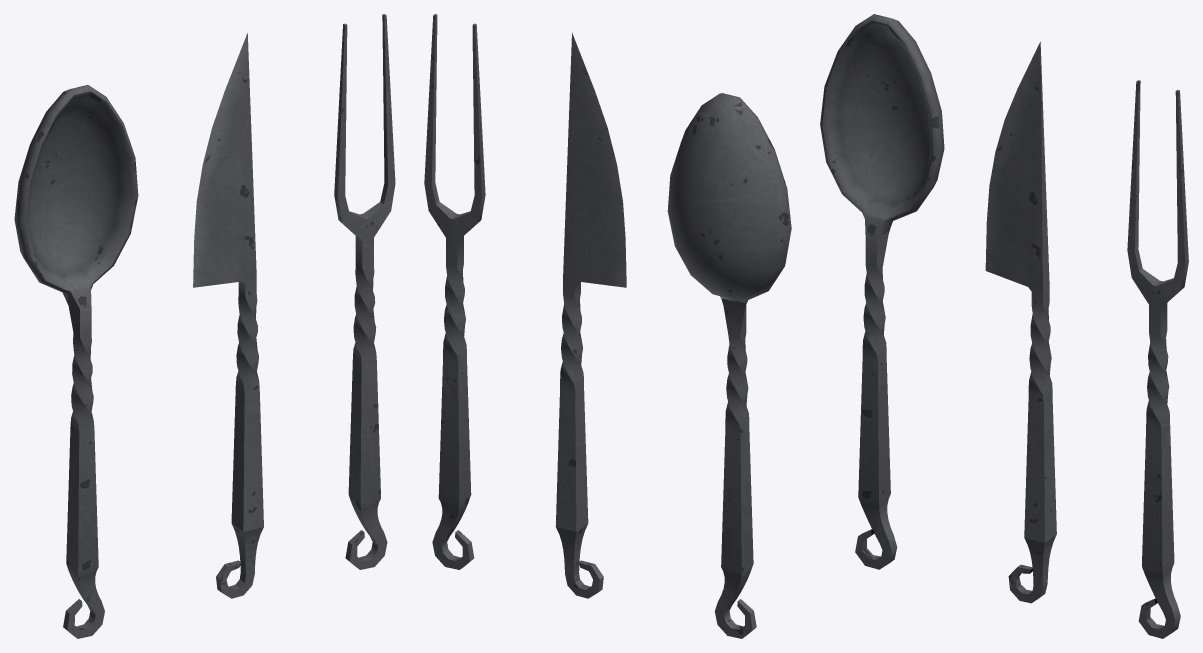
The model's file is eat.glb.
3 views of the same model, side by side, from view 1: azimuth 30°, elevation 25°; view 2: azimuth 150°, elevation 25°; view 3: azimuth 330°, elevation 25° (orthographic).
Visible parts, largest first — view 1: 3_Metal Damacus 1_0, 1_Metal Damacus 1_0, 2_Metal Damacus 1_0; view 2: 3_Metal Damacus 1_0, 1_Metal Damacus 1_0, 2_Metal Damacus 1_0; view 3: 3_Metal Damacus 1_0, 1_Metal Damacus 1_0, 2_Metal Damacus 1_0.
Boxes of the visible parts, x1,y1,x2,y2 form: 3_Metal Damacus 1_0: (14,85,138,638); 1_Metal Damacus 1_0: (193,33,263,598); 2_Metal Damacus 1_0: (334,14,395,569); 3_Metal Damacus 1_0: (667,93,791,638); 1_Metal Damacus 1_0: (555,32,626,598); 2_Metal Damacus 1_0: (424,14,485,569); 3_Metal Damacus 1_0: (820,14,944,569); 1_Metal Damacus 1_0: (985,41,1056,603); 2_Metal Damacus 1_0: (1127,80,1188,638).
Bounding box in the file's own units: 0.9856 × 1.43 × 0.1668.
1 material, 1 textured.
